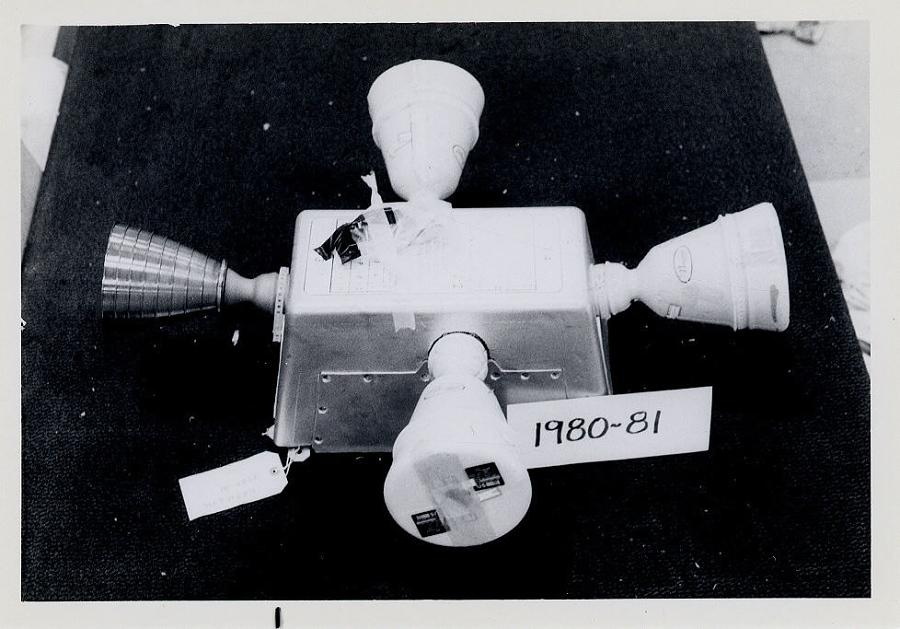thruster: (383, 371, 534, 550), (600, 204, 793, 335), (365, 58, 487, 198), (98, 218, 232, 322)
